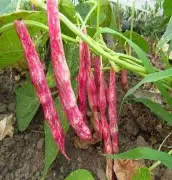crops: (2, 0, 168, 176), (59, 0, 111, 38)
